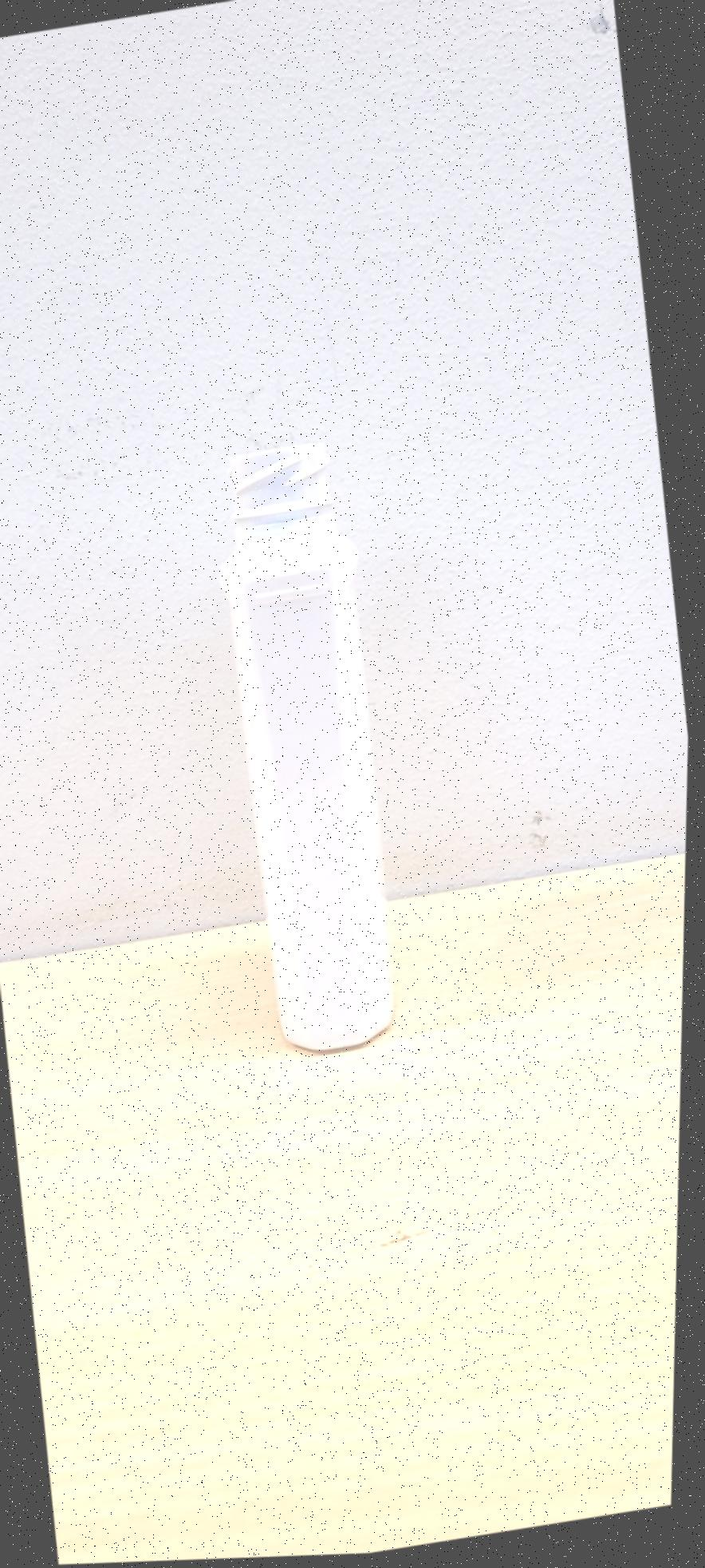bottle: (220, 442, 394, 1050)
